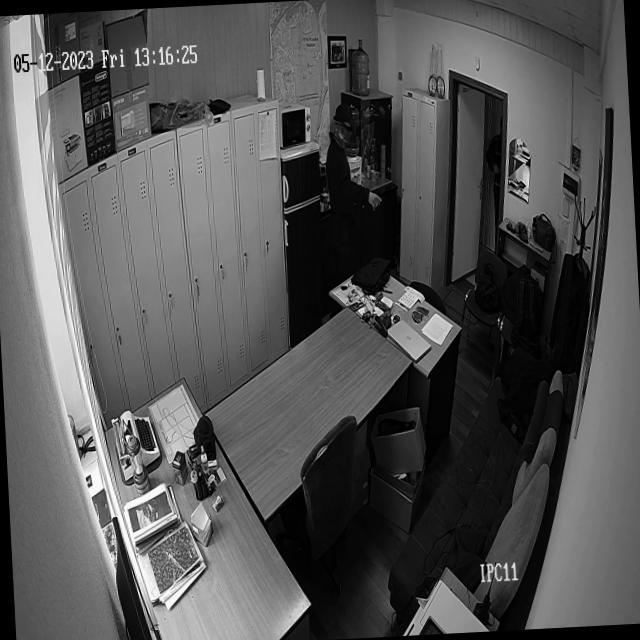gun: (505, 218, 518, 236)
person: (322, 103, 387, 274)
